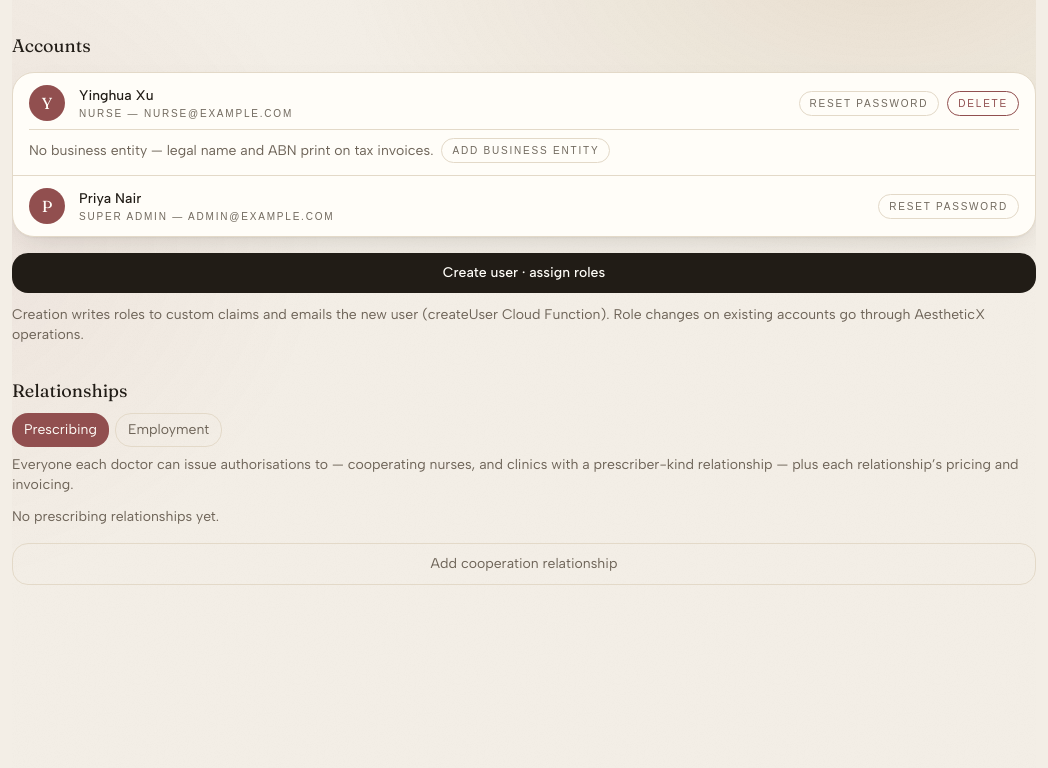
AdminConsole per-account actions › sends a password reset for the account's email and reflects the sent state
Click the button "Reset password" in the row of "Yinghua Xu": [869, 103] box [798,90,939,116]
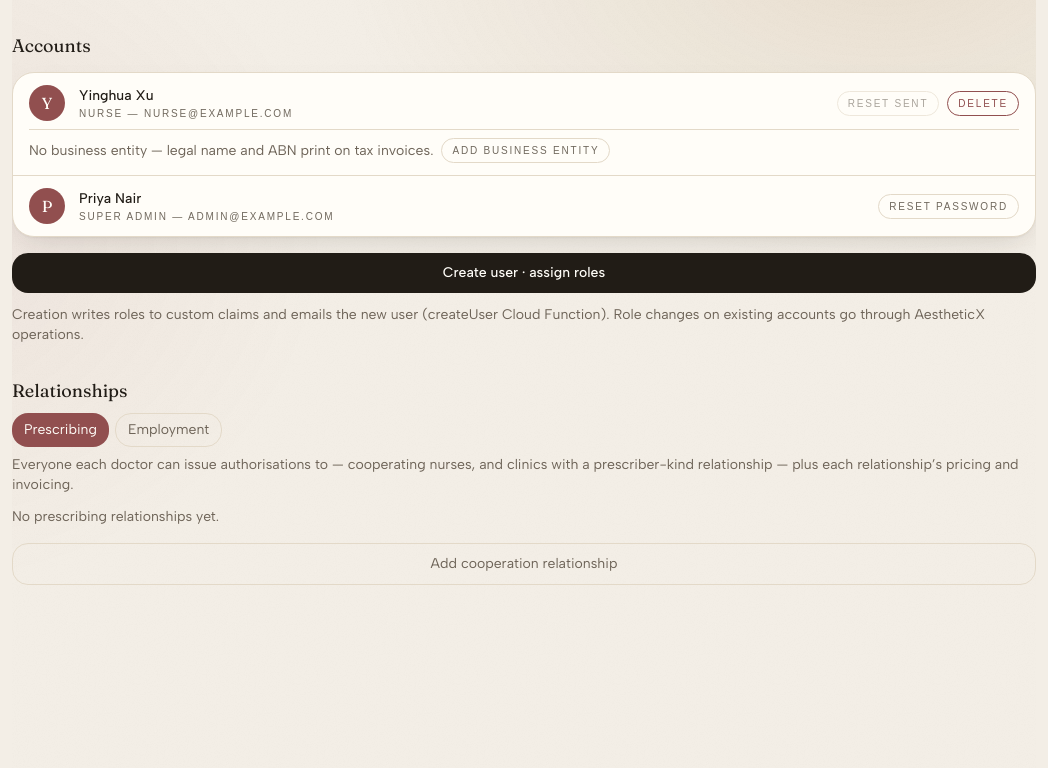
Now the button "Reset sent" is shown, box [837,90,939,116]
